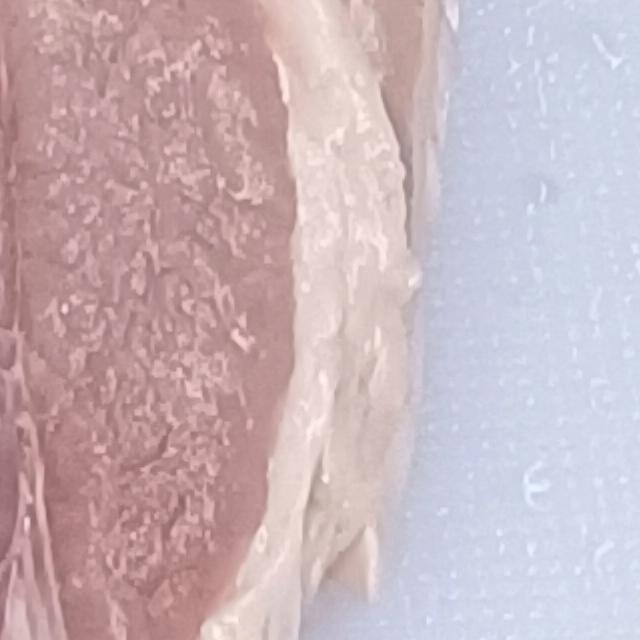pork: (0, 0, 496, 640)
